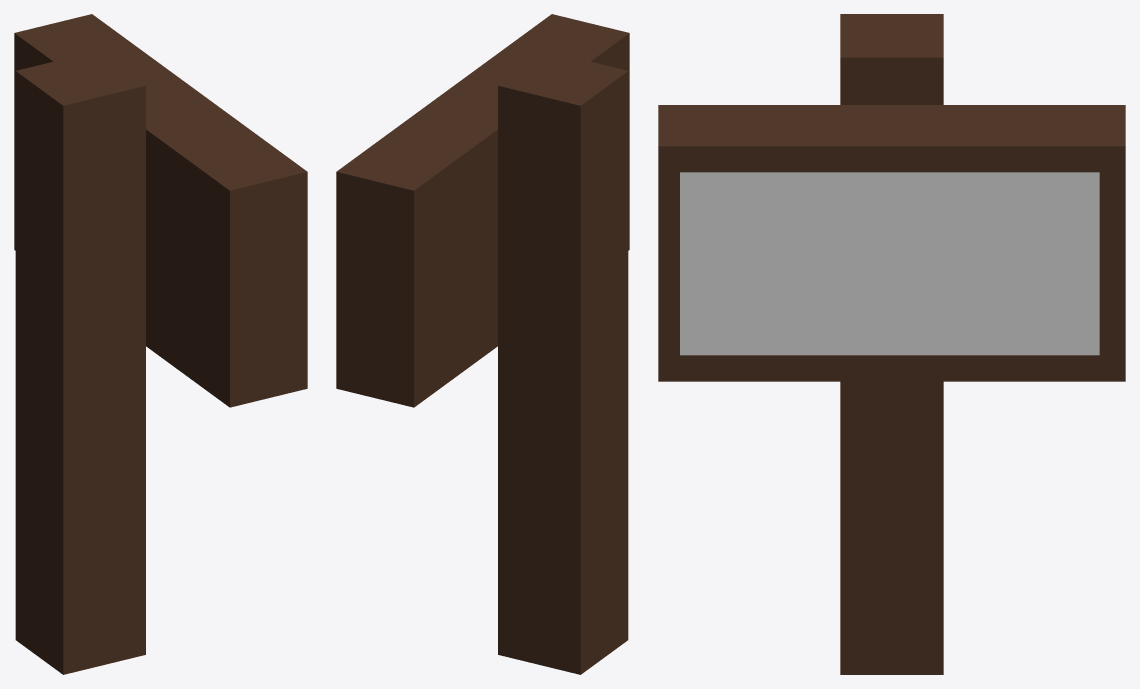
Rendered from TipsSign.fbx.
The picture shows the model from 3 angles, left to right: view 1: azimuth 30°, elevation 25°; view 2: azimuth 150°, elevation 25°; view 3: azimuth 270°, elevation 25°; orthographic projection. The views are drawn at different scales.
Parts seen in each view (by area): view 1: Cube; view 2: Cube; view 3: Cube.
Part boxes in pixels (x1,y1,x2,y2): Cube: (14,14,307,674); Cube: (336,14,629,674); Cube: (658,14,1125,674).
Bounding box in the file's own units: 55.19 × 187 × 128.
